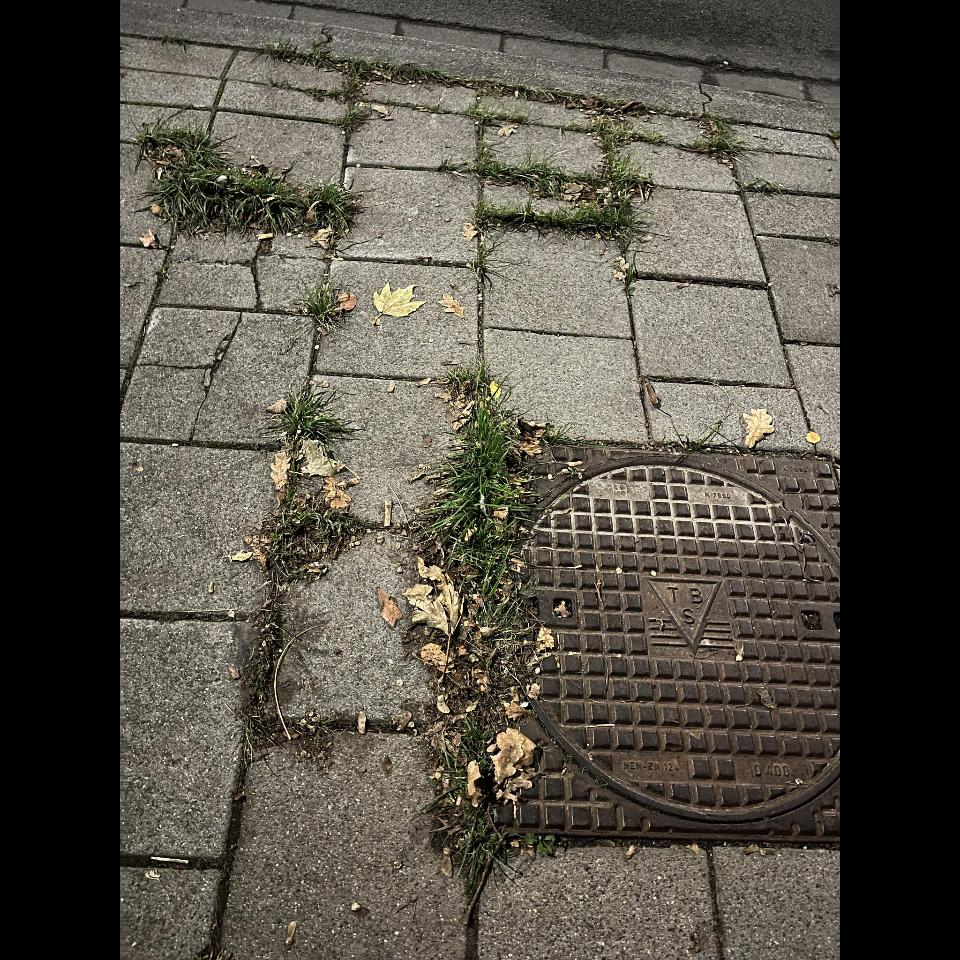weed: (465, 106, 747, 242), (269, 42, 685, 133), (422, 396, 530, 631), (147, 121, 355, 233), (257, 506, 374, 604), (276, 377, 341, 436), (301, 277, 340, 325)
